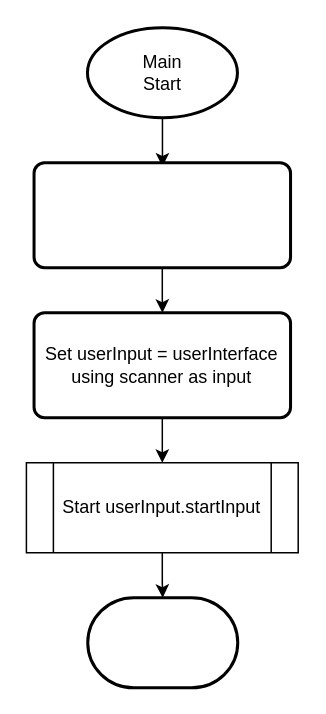
Image size: 326x714. Some labels were removed from this diagram. The shapes that lost their labels are listed below. From the top down, each one's box as (x1, y1, x2, y2) in pixels, then its label:
(32, 160, 291, 268): Create new input scanner
(86, 596, 238, 688): End
